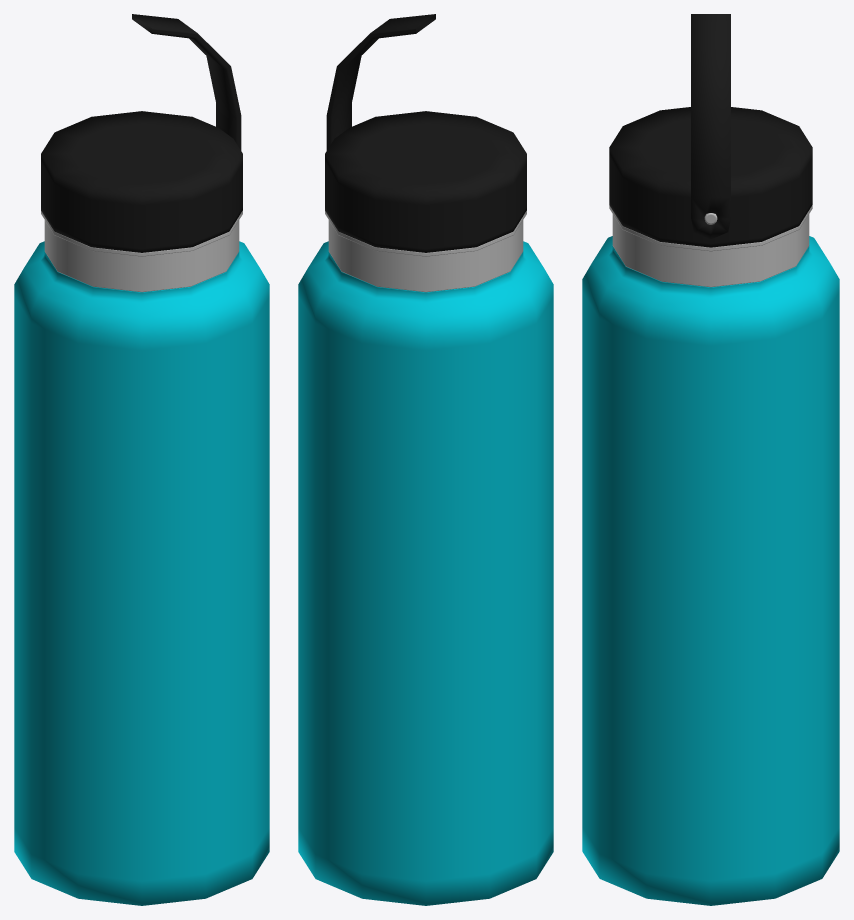
Rendered from hydroflask_grey.glb.
The picture shows the model from 3 angles, left to right: view 1: azimuth 30°, elevation 25°; view 2: azimuth 150°, elevation 25°; view 3: azimuth 270°, elevation 25°; orthographic projection.
Visible parts, largest first — view 1: Circle, Circle.002, Circle.001, Circle.003; view 2: Circle, Circle.002, Circle.001, Circle.003; view 3: Circle, Circle.002, Circle.003, Circle.001.
Part boxes in pixels (box(x1,y1,x2,y2)): Circle: box(14, 241, 269, 905); Circle.002: box(41, 111, 242, 252); Circle.001: box(41, 211, 242, 292); Circle.003: box(132, 14, 241, 150); Circle: box(298, 241, 553, 905); Circle.002: box(325, 111, 526, 252); Circle.001: box(325, 211, 526, 292); Circle.003: box(326, 14, 435, 150); Circle: box(582, 236, 839, 905); Circle.002: box(609, 107, 812, 247); Circle.003: box(691, 14, 730, 239); Circle.001: box(609, 205, 812, 287).
Size of the model in its own units: 2 by 7.24 by 2.
